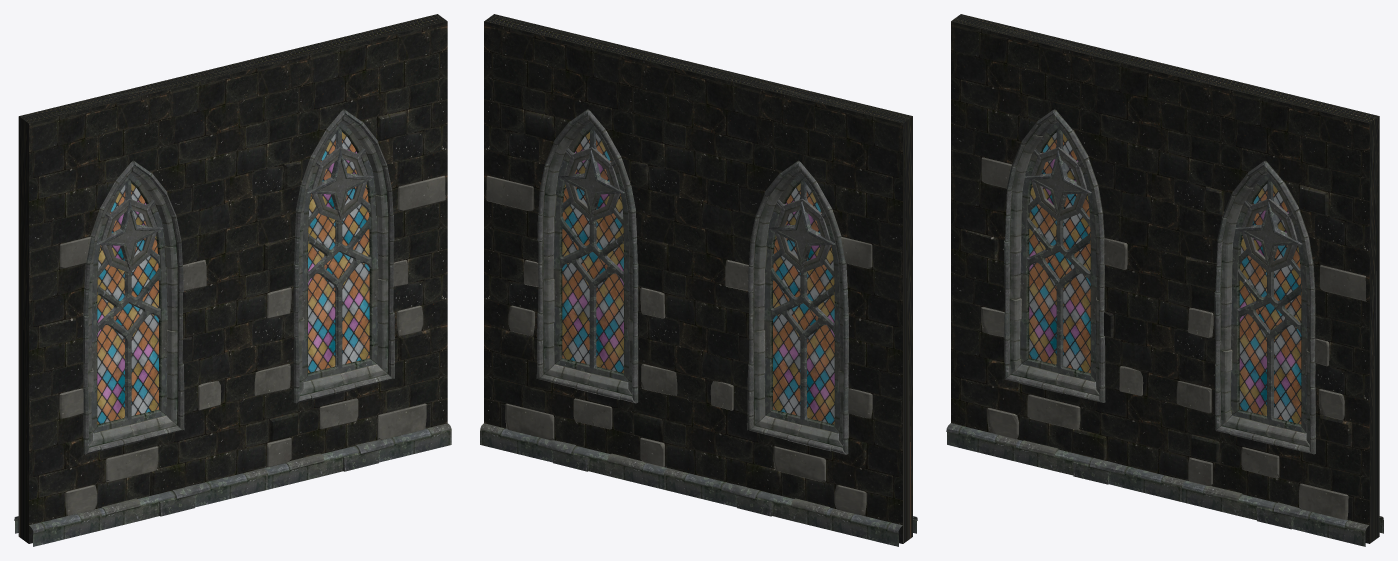
The picture shows the model from 3 angles, left to right: view 1: azimuth 30°, elevation 25°; view 2: azimuth 150°, elevation 25°; view 3: azimuth 330°, elevation 25°; orthographic projection.
Visible parts, largest first — view 1: SM_SaradominTemple_Wall_12x12_01_LOD0; view 2: SM_SaradominTemple_Wall_12x12_01_LOD0; view 3: SM_SaradominTemple_Wall_12x12_01_LOD0.
Part boxes in pixels (left/top/right/bottom): SM_SaradominTemple_Wall_12x12_01_LOD0: left=14, top=14, right=451, bottom=546; SM_SaradominTemple_Wall_12x12_01_LOD0: left=480, top=14, right=917, bottom=546; SM_SaradominTemple_Wall_12x12_01_LOD0: left=946, top=14, right=1383, bottom=546.
Bounding box in the file's own units: 12.01 × 11.51 × 0.975.
4 materials, 4 textured.
